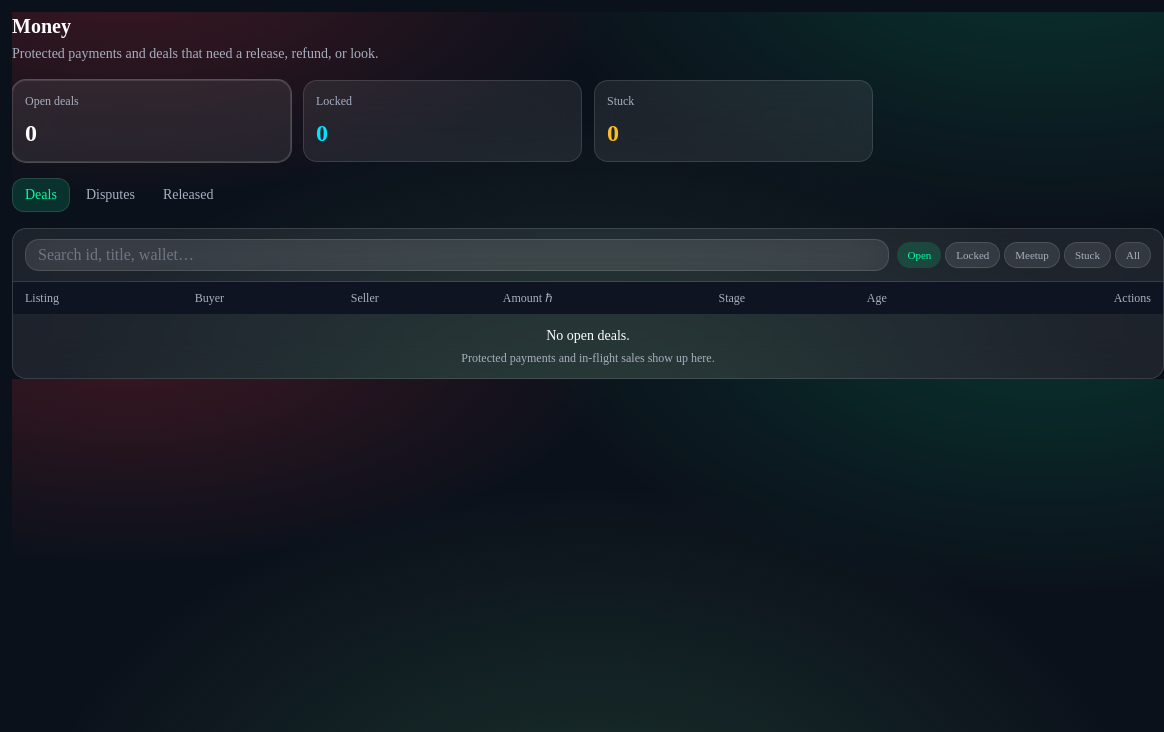
Scenario: AdminMoney › uses the frozen empties and hides a zero dispute KPI
Click the tab "Disputes": point(110, 195) [74,178,147,212]
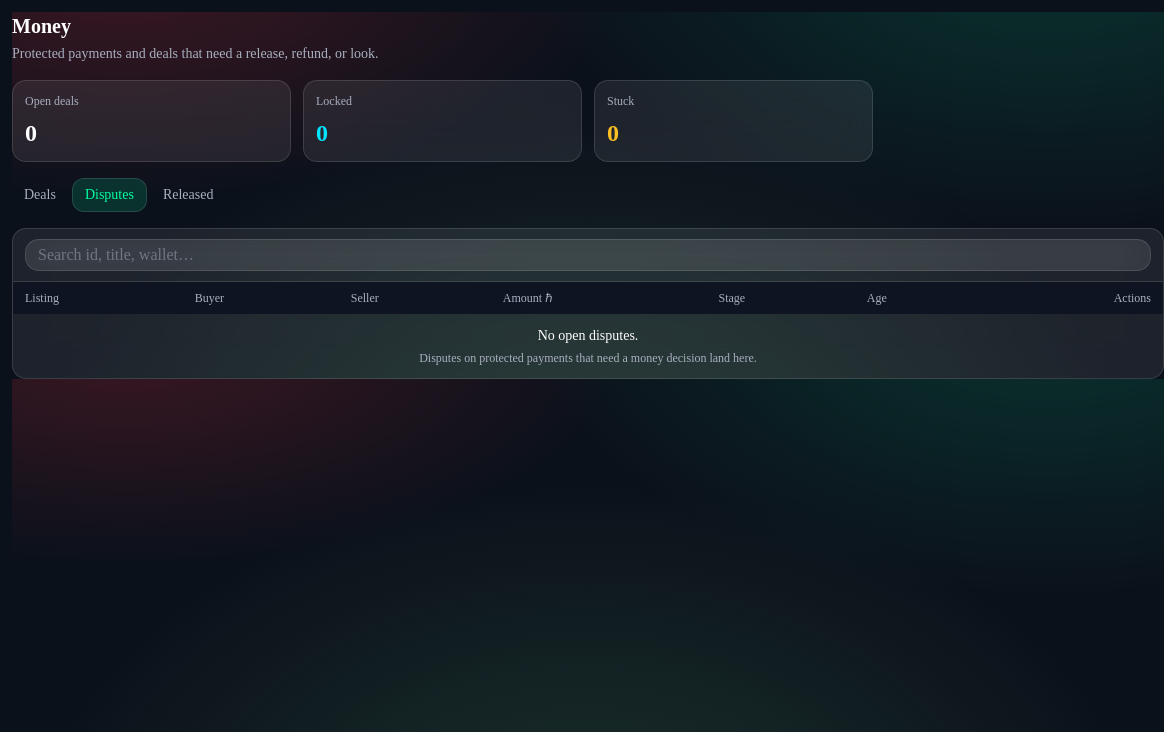
Now the text "No open disputes." is shown, box [538,328,638,343]
Now the text "Disputes on protected payments that need a money decision land here." is shown, box [419,351,757,365]
Click the tab "Released": point(188, 195) [151,178,225,212]
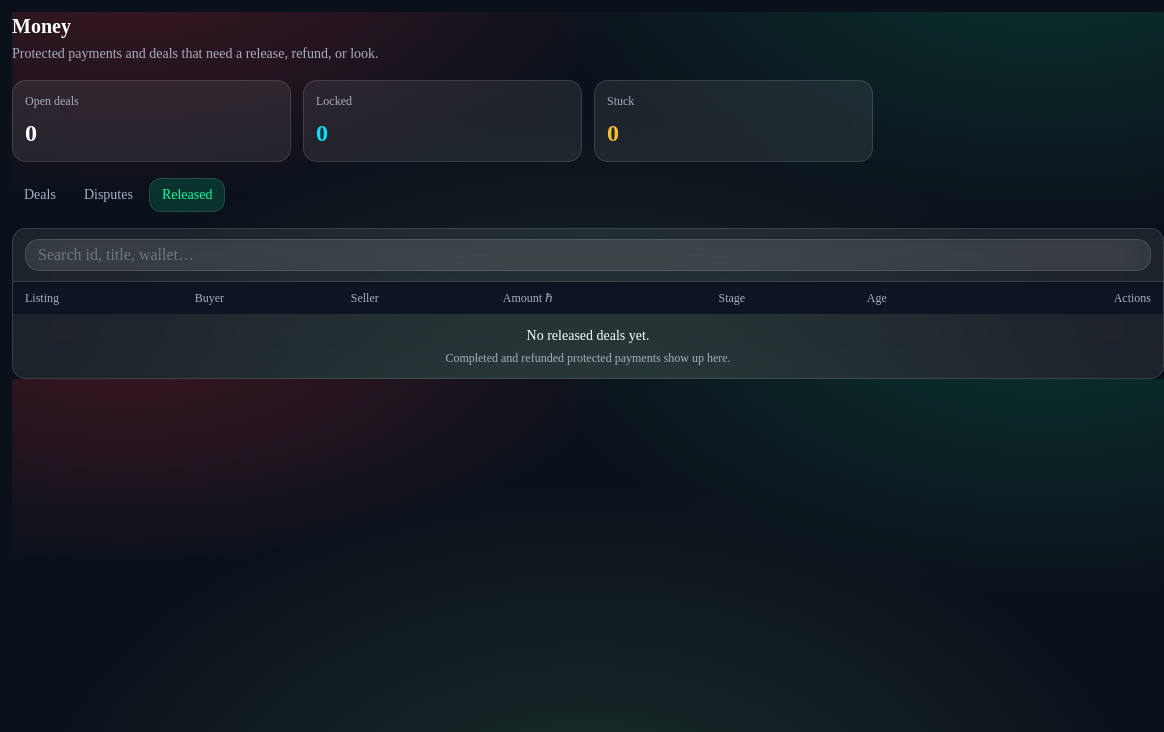
Now the text "No released deals yet." is shown, box [527,328,649,343]
Now the text "Completed and refunded protected payments show up here." is shown, box [445,351,731,365]
